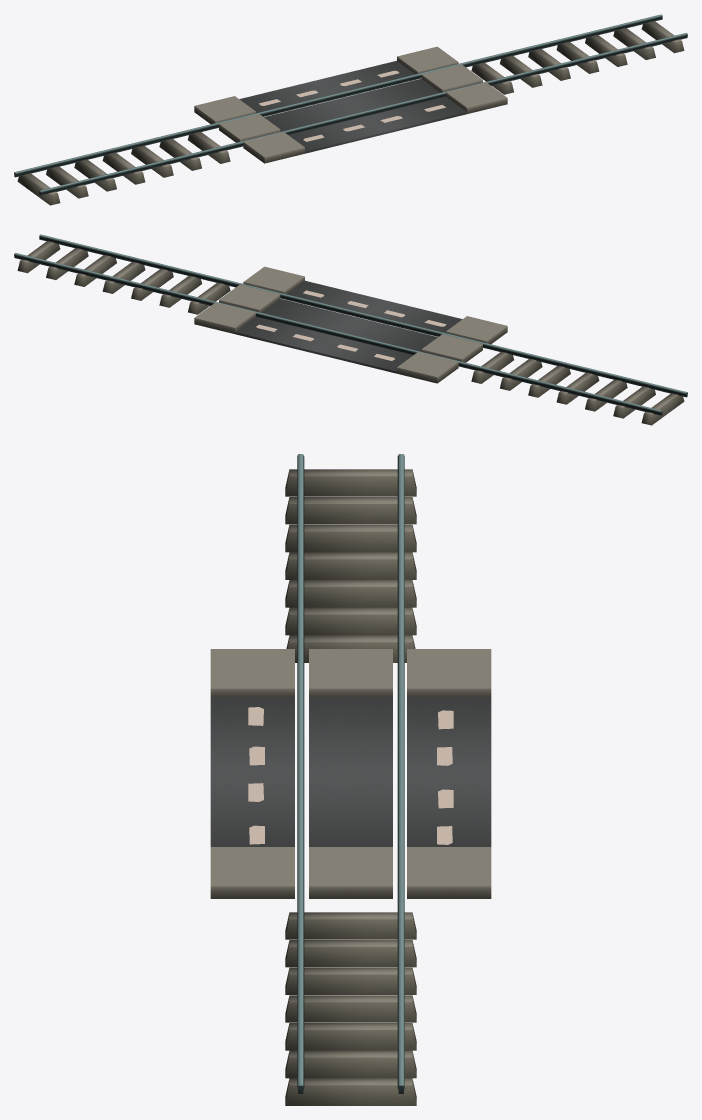
File: Railroad_Crossing_1C.fbx
3 renders of one model, top to bottom at view 1: azimuth 30°, elevation 25°; view 2: azimuth 150°, elevation 25°; view 3: azimuth 270°, elevation 25°, orthographic. The views are drawn at different scales.
Parts seen in each view (by area): view 1: Railroad_Crossing_1C; view 2: Railroad_Crossing_1C; view 3: Railroad_Crossing_1C.
Part boxes in pixels (bbox=[...]): Railroad_Crossing_1C: bbox=[14, 14, 687, 205]; Railroad_Crossing_1C: bbox=[14, 234, 687, 425]; Railroad_Crossing_1C: bbox=[210, 454, 491, 1105].
Size of the model in its own units: 31.94 by 0.675 by 6.
